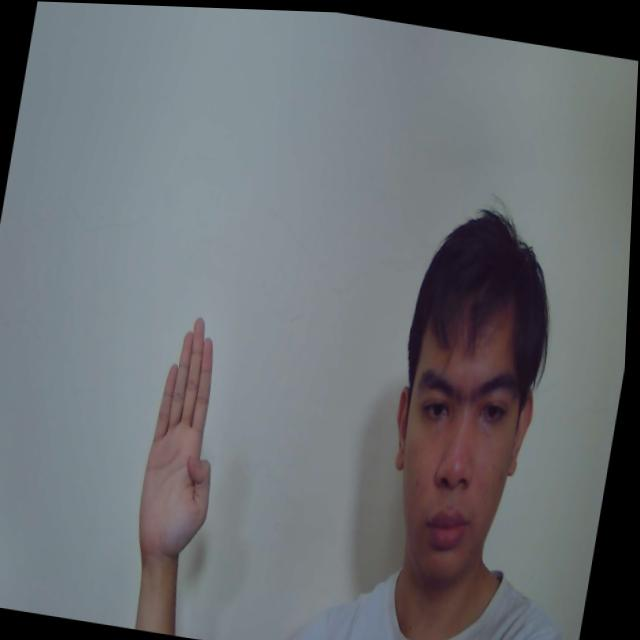B: (137, 309, 243, 558)
